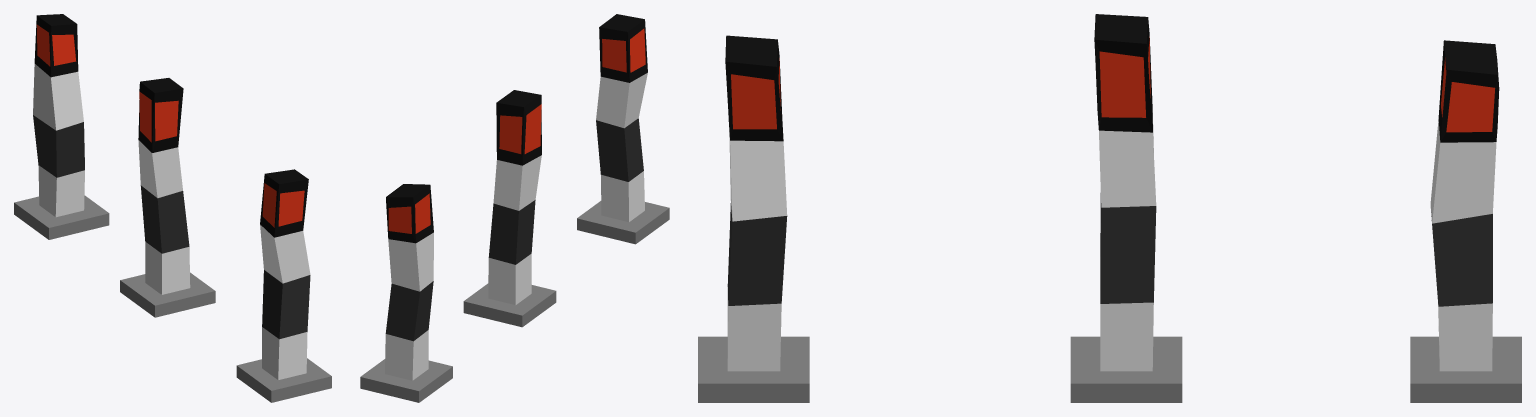
The model's file is pembatas jalan ujung jalan kotak.fbx.
3 renders of one model, left to right at view 1: azimuth 30°, elevation 25°; view 2: azimuth 150°, elevation 25°; view 3: azimuth 270°, elevation 25°, orthographic. The views are drawn at different scales.
Visible parts, largest first — view 1: Cube.003, Cube.005, Cube.004; view 2: Cube.004, Cube.003, Cube.005; view 3: Cube.004, Cube.005, Cube.003.
Part boxes in pixels (left/top/right/bottom): Cube.003: left=236, top=169, right=331, bottom=402; Cube.005: left=14, top=14, right=109, bottom=239; Cube.004: left=120, top=78, right=215, bottom=317; Cube.004: left=463, top=90, right=556, bottom=327; Cube.003: left=577, top=14, right=669, bottom=244; Cube.005: left=360, top=184, right=452, bottom=402; Cube.004: left=1070, top=14, right=1182, bottom=402; Cube.005: left=1410, top=40, right=1521, bottom=402; Cube.003: left=698, top=35, right=809, bottom=402.
Bounding box in the file's own units: 54.67 × 188 × 403.
